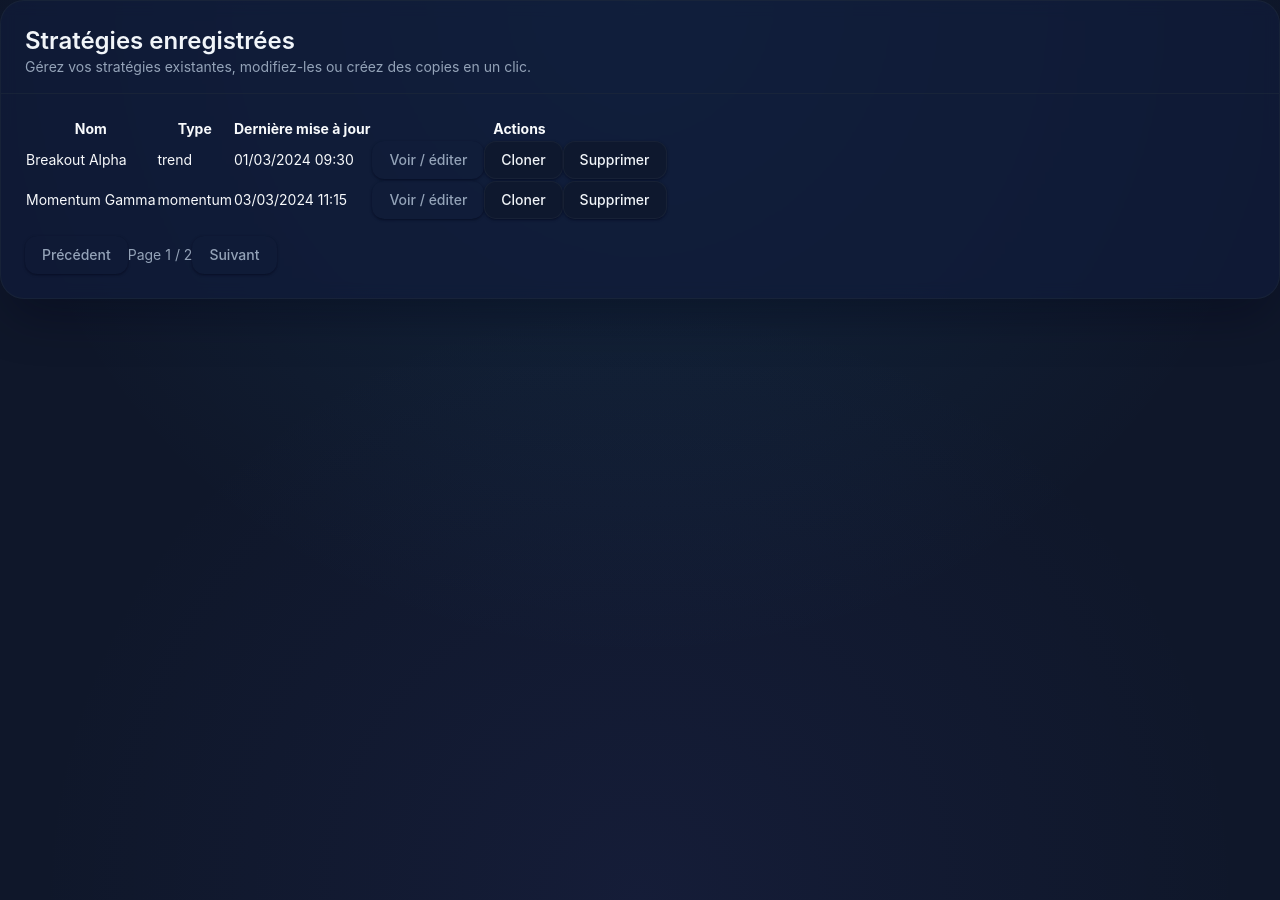
StrategiesListView › renders the strategies list and paginates results
This screenshot has width=1280, height=900.
Expected: the text "Breakout Alpha" is shown, [26,151,127,168]
Expected: the text "Momentum Gamma" is shown, [26,190,156,210]
Click the button "Suivant" at (234, 255), box [192,236,276,274]
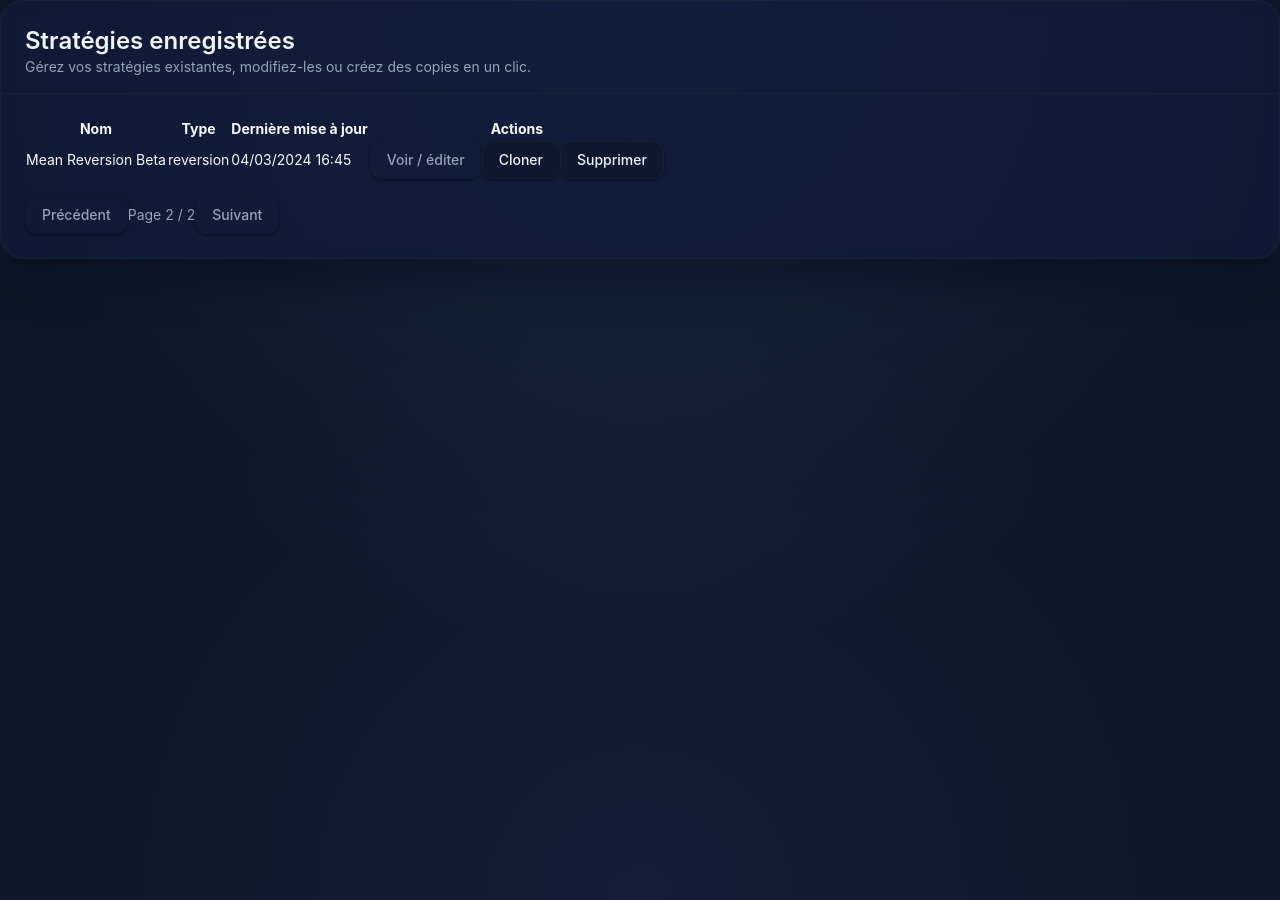
Now the text "Mean Reversion Beta" is shown, box [26,150,166,170]
Now the button "Précédent" is enabled, box [25,196,128,234]
